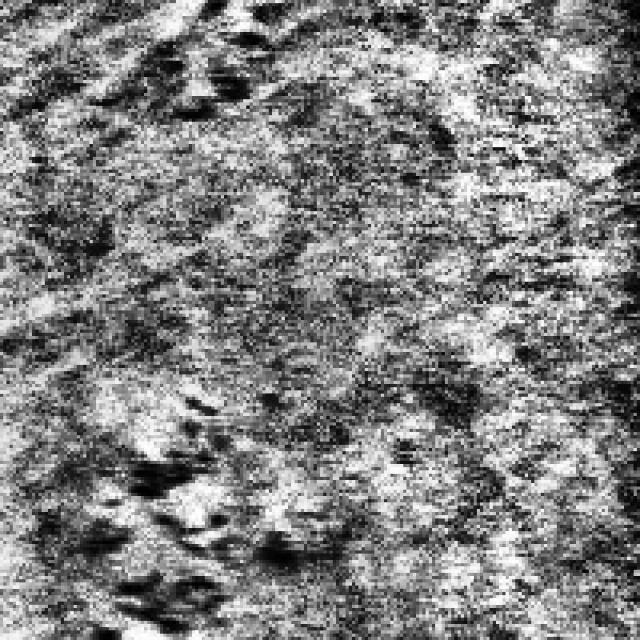Crazing: (67, 374, 298, 637), (122, 0, 268, 125)
